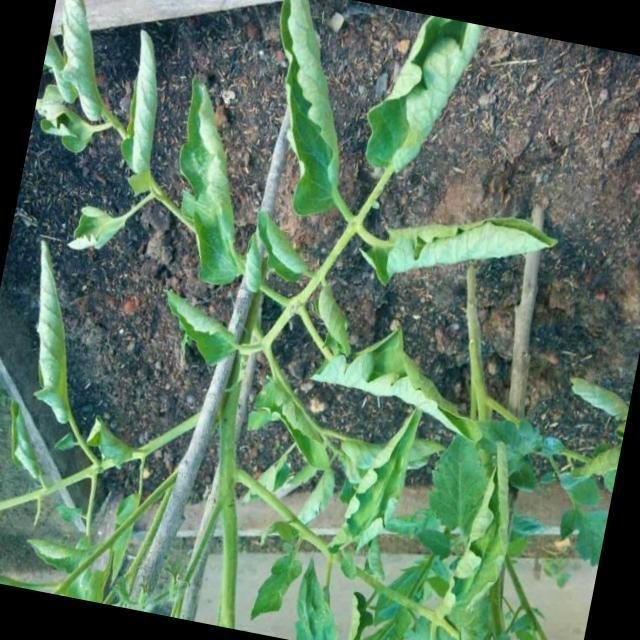Yellow Curl Virus: (242, 0, 379, 220), (298, 304, 502, 448), (148, 76, 276, 286), (362, 188, 560, 312), (353, 7, 478, 190), (0, 239, 106, 429), (102, 20, 178, 192), (34, 0, 131, 127), (146, 287, 247, 367), (244, 211, 311, 285)
